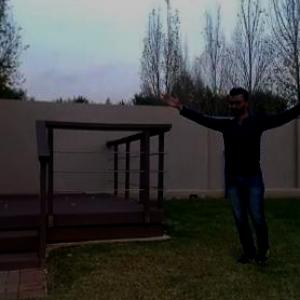takeoff: (154, 87, 300, 260)
